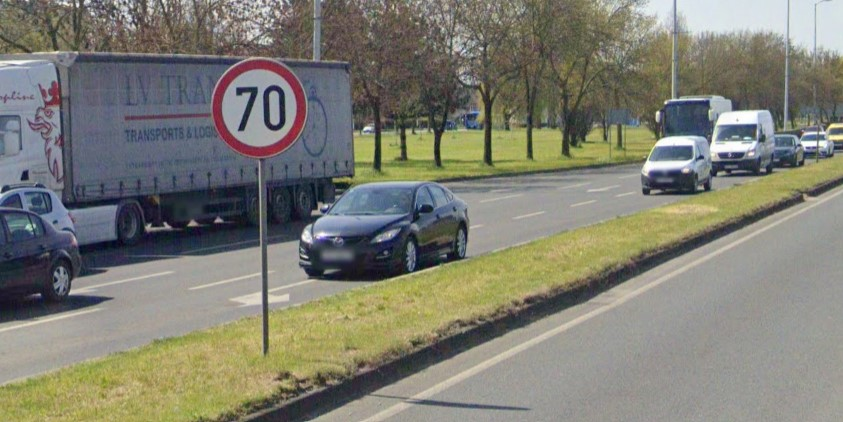Ograničenje brzine 70: (210, 56, 309, 160)
